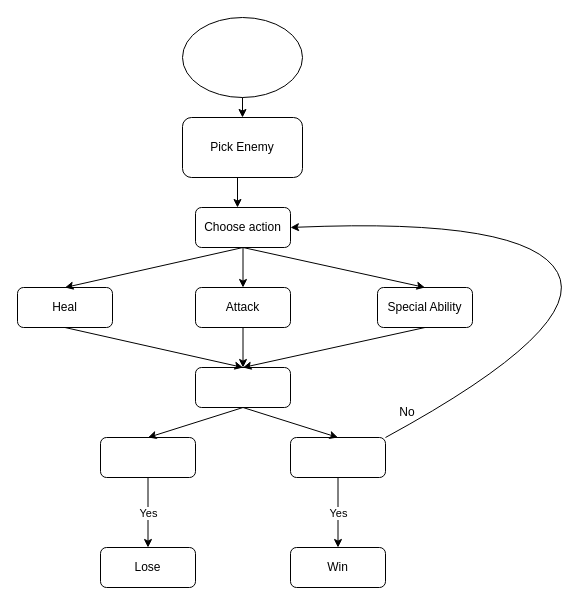
Some shapes in this 579 by 605 pixel diagram are drawn without their labels. Each missing label, with the box of its shape:
Enemy attacks: (194, 366, 290, 408)
Enemy HP is 0?: (290, 436, 386, 478)
Hero HP is 0?: (100, 436, 196, 478)
Start: (182, 16, 302, 98)
